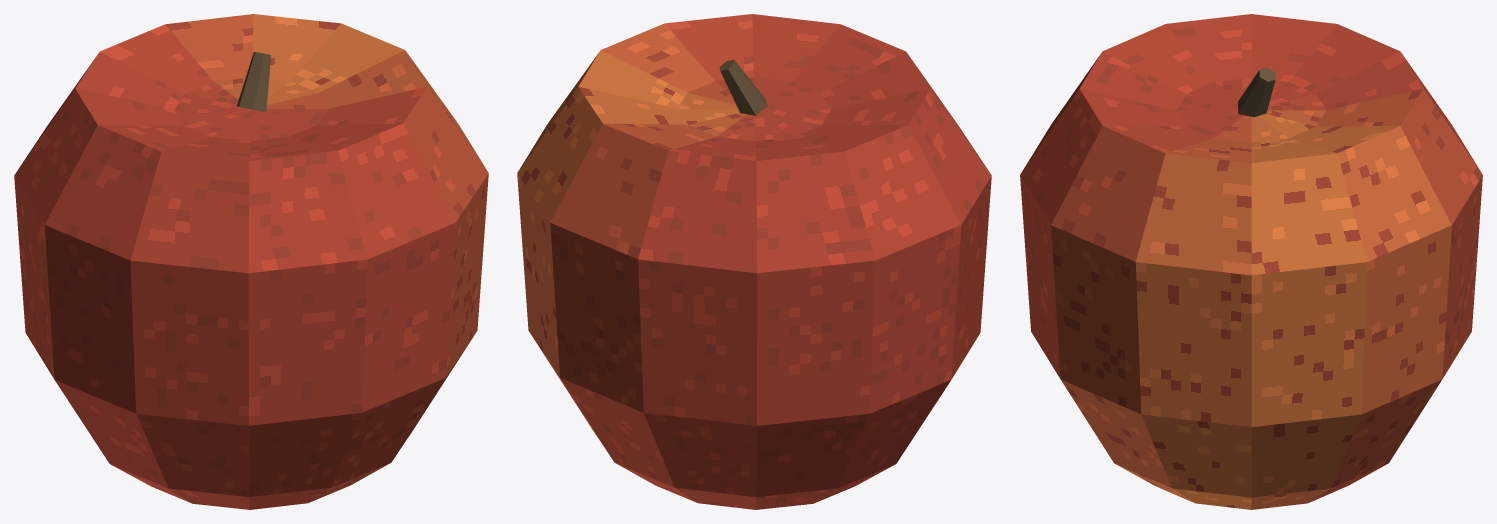
The model's file is apple.glb.
The picture shows the model from 3 angles, left to right: view 1: azimuth 30°, elevation 25°; view 2: azimuth 150°, elevation 25°; view 3: azimuth 270°, elevation 25°; orthographic projection.
Parts seen in each view (by area): view 1: block_apple, block_woody stem; view 2: block_apple, block_woody stem; view 3: block_apple, block_woody stem.
Boxes of the visible parts, bbox=[...] form: block_apple: bbox=[14, 14, 488, 509]; block_woody stem: bbox=[237, 52, 271, 111]; block_apple: bbox=[517, 14, 991, 509]; block_woody stem: bbox=[719, 59, 767, 115]; block_apple: bbox=[1020, 14, 1482, 509]; block_woody stem: bbox=[1238, 67, 1275, 117].
Size of the model in its own units: 0.1112 by 0.1031 by 0.1083.
Materials: 1 (1 with a texture image).
